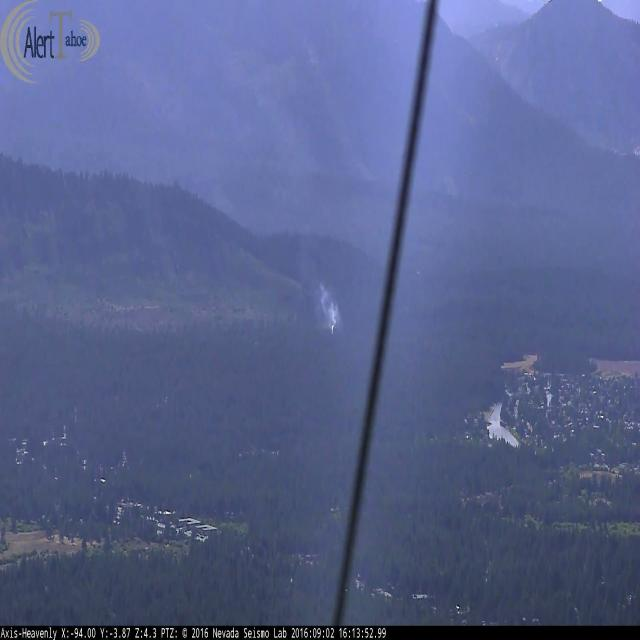smoke: (313, 274, 346, 328)
